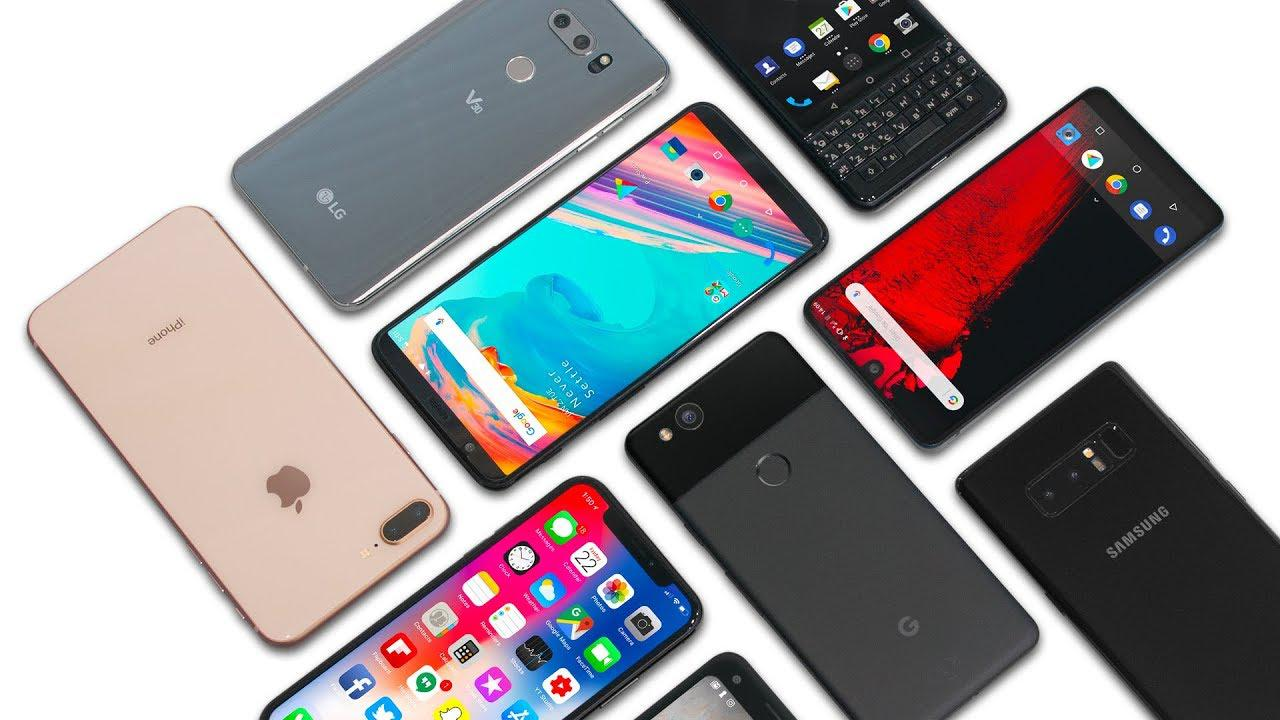Smartphone: (26, 204, 450, 646), (370, 101, 831, 493), (625, 331, 1038, 710), (802, 86, 1226, 452), (228, 2, 672, 311), (955, 360, 1279, 712), (261, 474, 701, 719), (665, 1, 1009, 213)
